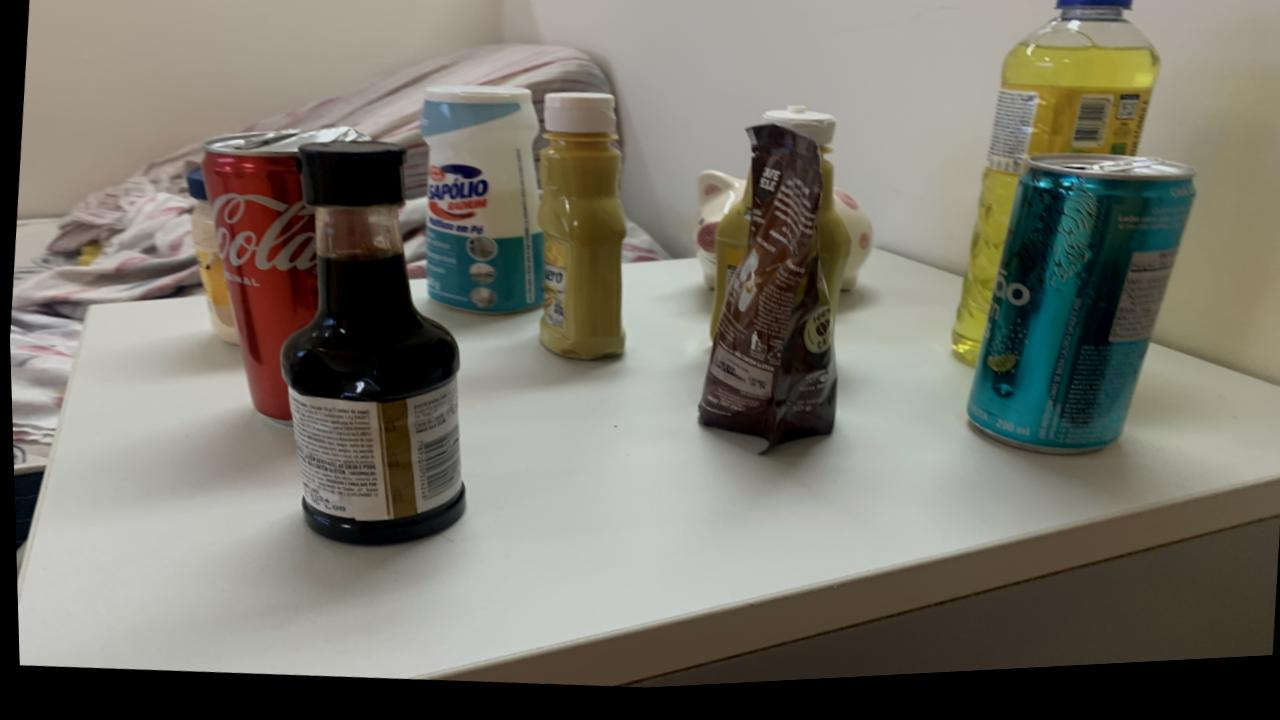Cleaner-Cleanup_Items: (418, 89, 542, 319)
Coffee-Pantry_Items: (695, 132, 835, 456)
Coke-Drinks: (200, 130, 365, 426)
Detergent-Cleanup_Items: (949, 0, 1158, 375)
English_Sauce-Pantry_Items: (278, 146, 462, 549)
Mayonnaise-Pantry_Items: (185, 172, 237, 346)
Mustard-Pantry_Items: (535, 98, 625, 365), (762, 115, 849, 322), (708, 186, 752, 344)
Pig_Safe-Miscellaneous: (691, 177, 745, 295), (831, 196, 872, 300)
Tea-Drinks: (963, 165, 1194, 465)
